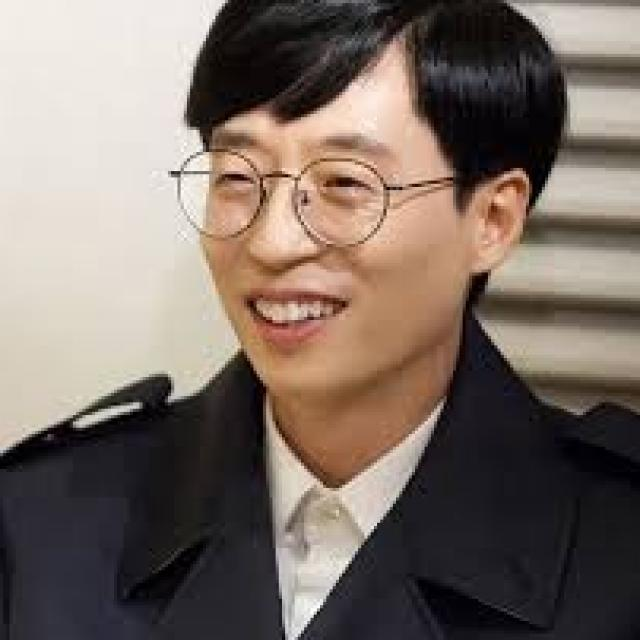Glasses: (162, 146, 498, 247)
